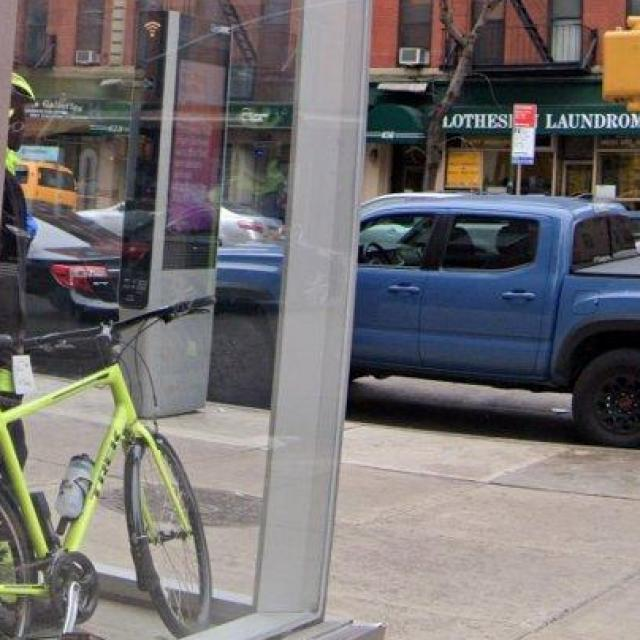bicycle: (1, 300, 213, 640)
